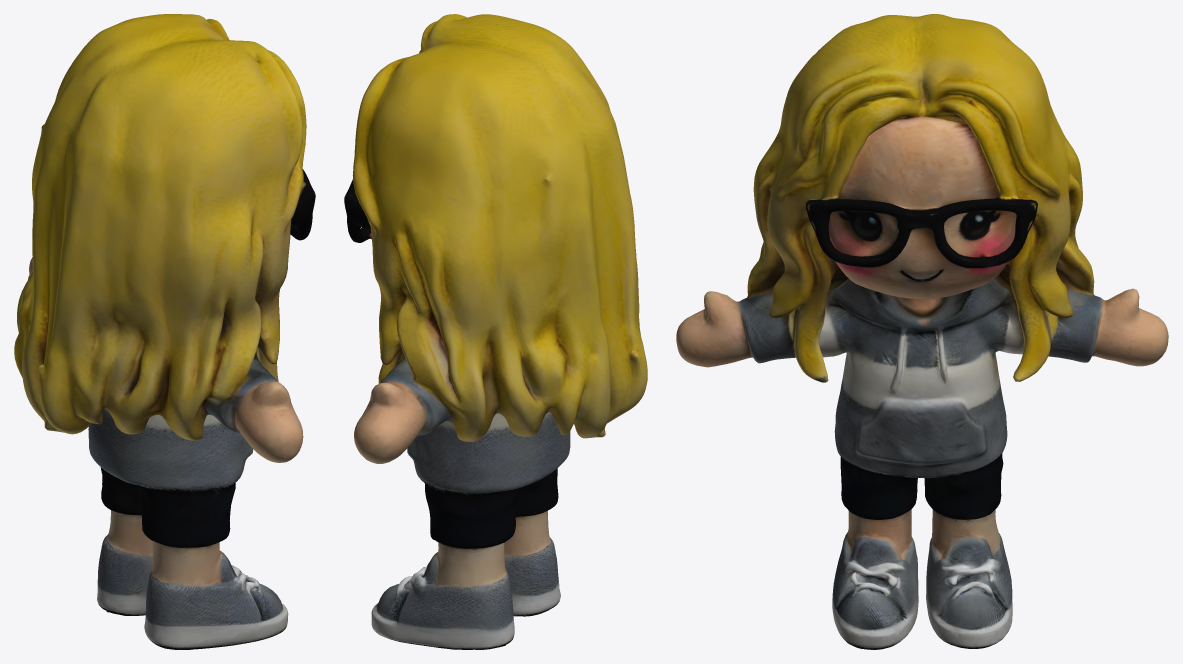
Rendered from bethany.glb.
The picture shows the model from 3 angles, left to right: view 1: azimuth 30°, elevation 25°; view 2: azimuth 150°, elevation 25°; view 3: azimuth 270°, elevation 25°; orthographic projection.
Visible parts, largest first — view 1: tripo_node_9b0c08a8-b683-4e18-8a91-f4cf489343ea; view 2: tripo_node_9b0c08a8-b683-4e18-8a91-f4cf489343ea; view 3: tripo_node_9b0c08a8-b683-4e18-8a91-f4cf489343ea.
Part boxes in pixels (x1=…): tripo_node_9b0c08a8-b683-4e18-8a91-f4cf489343ea: x1=14, y1=14, x2=315, y2=649; tripo_node_9b0c08a8-b683-4e18-8a91-f4cf489343ea: x1=344, y1=14, x2=647, y2=649; tripo_node_9b0c08a8-b683-4e18-8a91-f4cf489343ea: x1=676, y1=14, x2=1168, y2=649.
Bounding box in the file's own units: 0.4417 × 1 × 0.767.
Materials: 1 (1 with a texture image).
